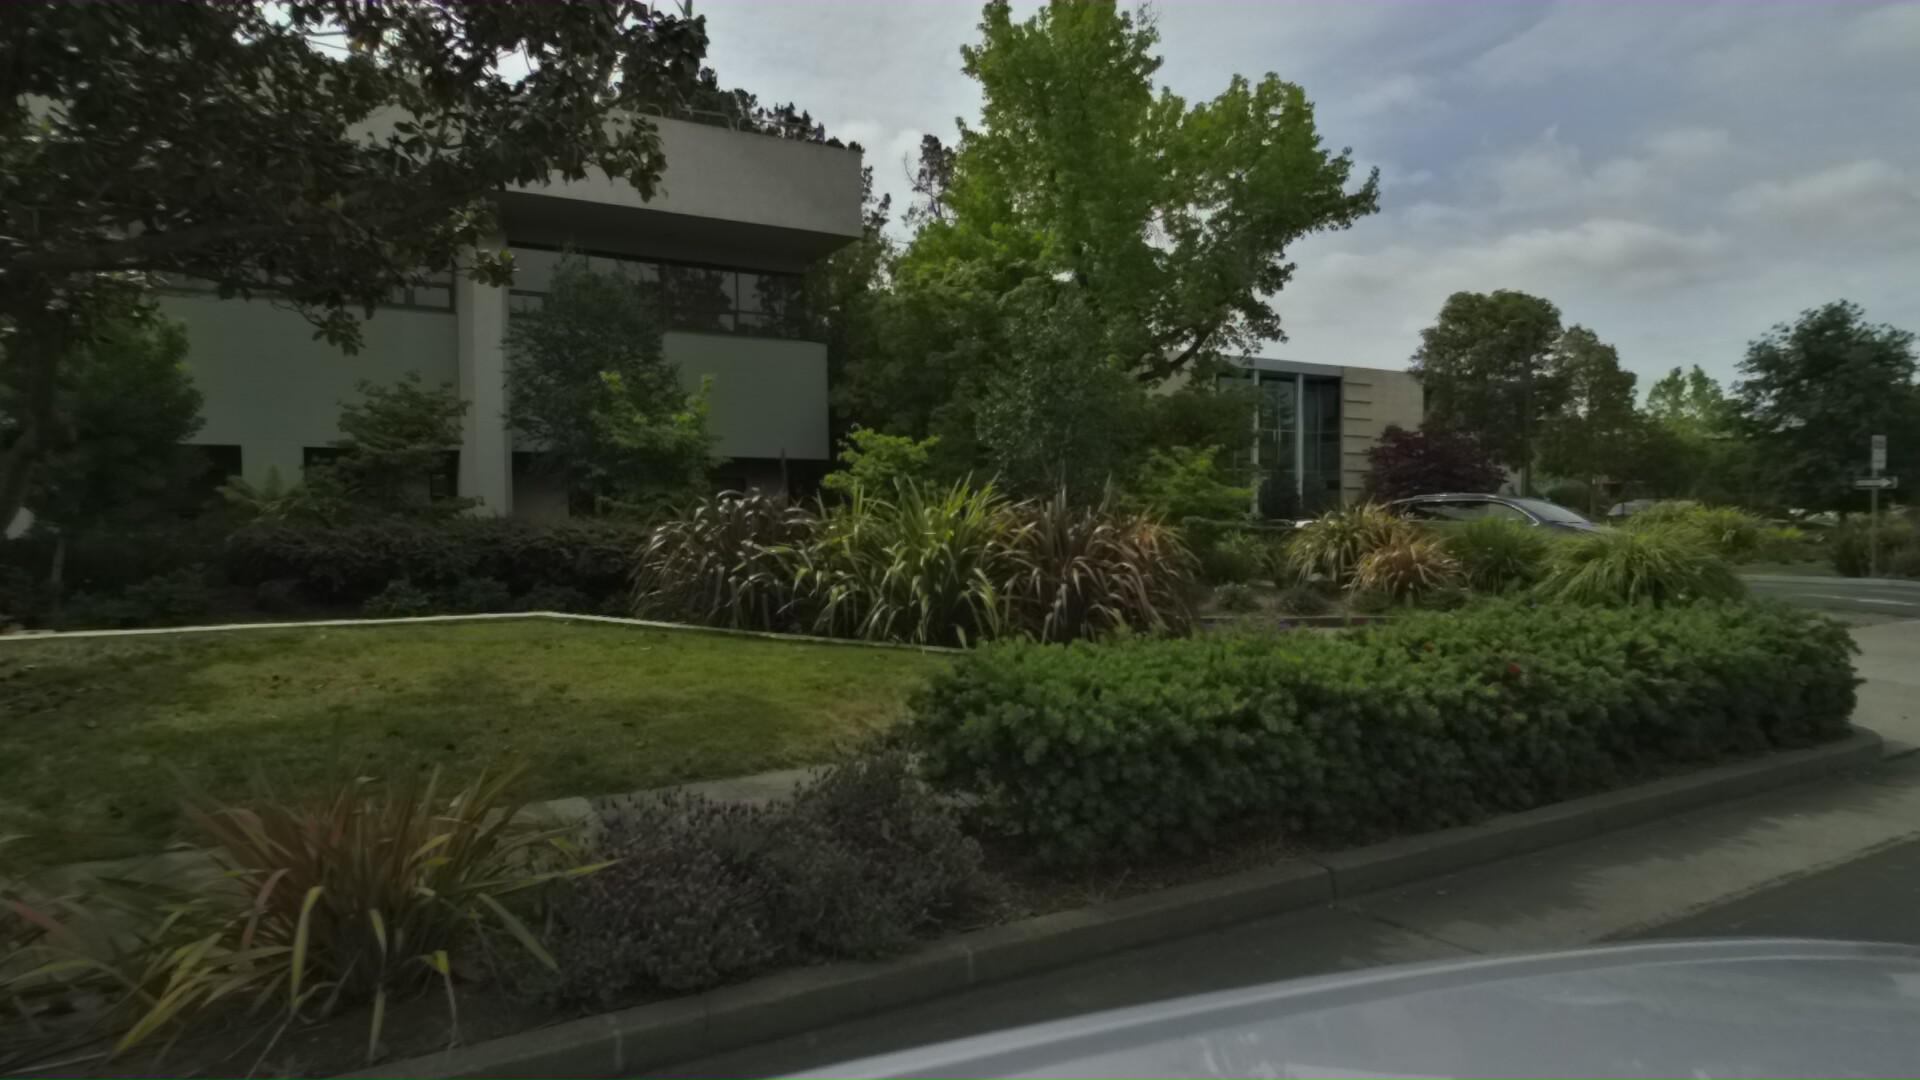car: (1379, 484, 1652, 578)
